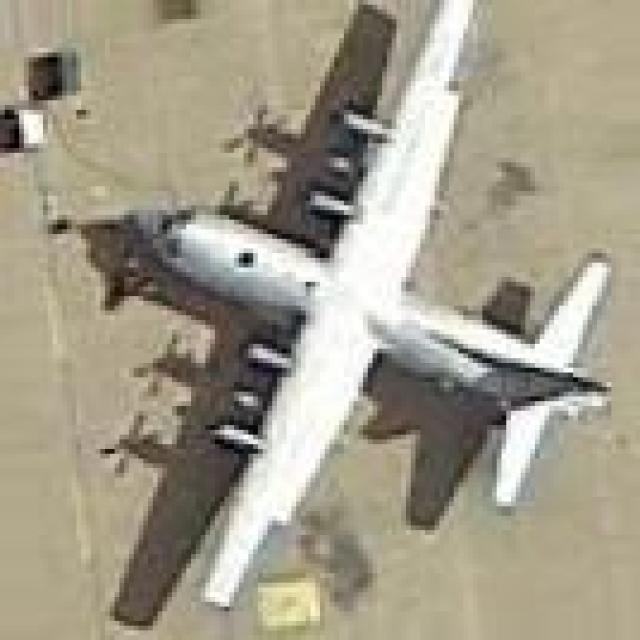C-130_TopDown: (53, 0, 616, 635)
